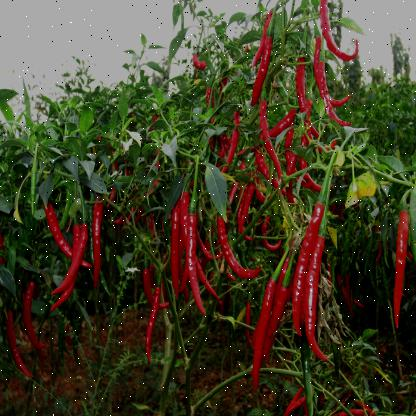chili: (247, 275, 278, 398), (51, 225, 90, 311), (213, 214, 261, 280), (303, 240, 327, 364), (388, 210, 412, 332), (86, 198, 110, 294), (252, 30, 277, 114), (166, 200, 186, 303), (19, 283, 46, 357), (185, 206, 201, 316), (142, 283, 163, 357), (296, 55, 308, 130), (262, 206, 273, 258)
